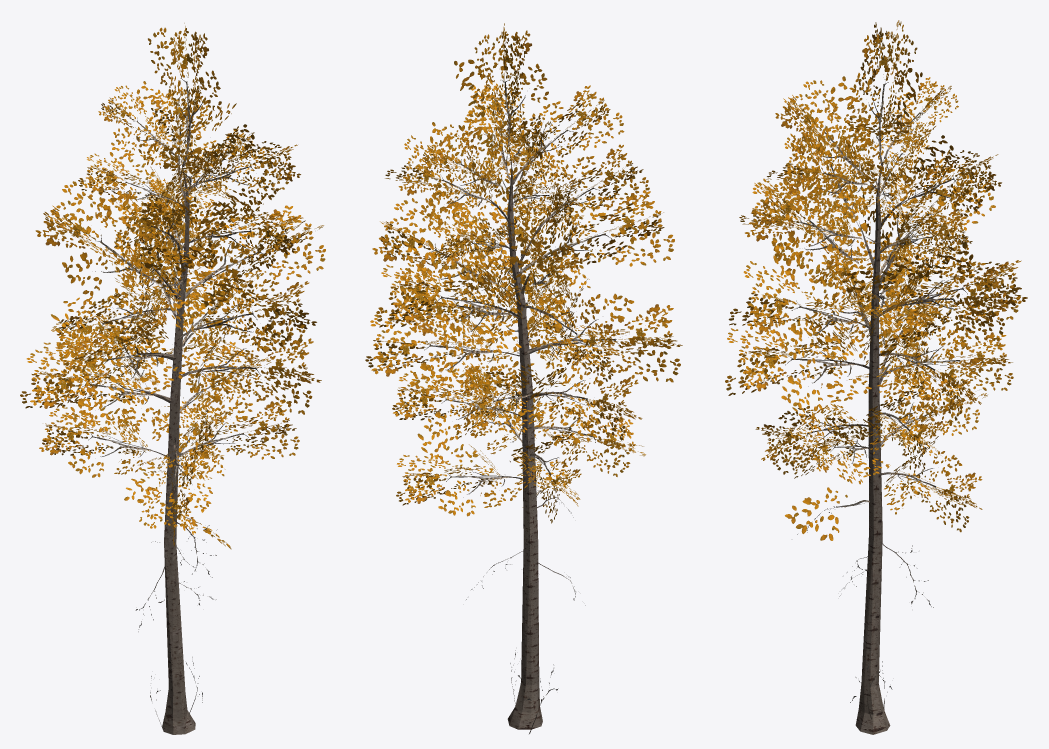
Rendered from maple_giant.glb.
3 renders of one model, left to right at view 1: azimuth 30°, elevation 25°; view 2: azimuth 150°, elevation 25°; view 3: azimuth 270°, elevation 25°, orthographic.
Parts seen in each view (by area): view 1: Object_2; view 2: Object_2; view 3: Object_2.
Part boxes in pixels (x1,y1,x2,y2): Object_2: [20, 23, 325, 734]; Object_2: [365, 23, 682, 733]; Object_2: [725, 20, 1027, 734].
Bounding box in the file's own units: 651 × 1476 × 595.
Materials: 1 (1 with a texture image).
